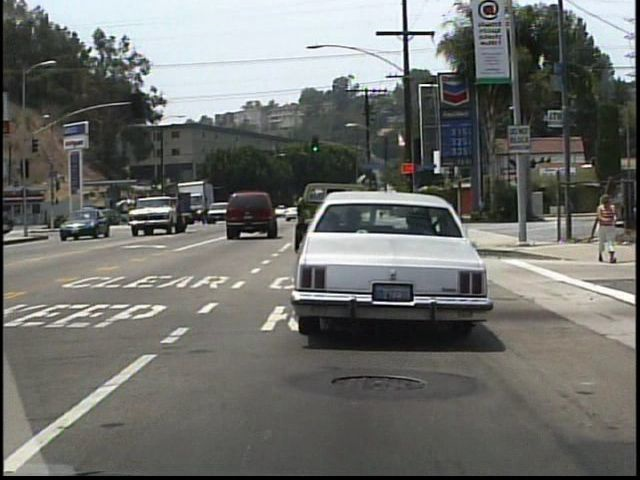person: (594, 192, 618, 263)
